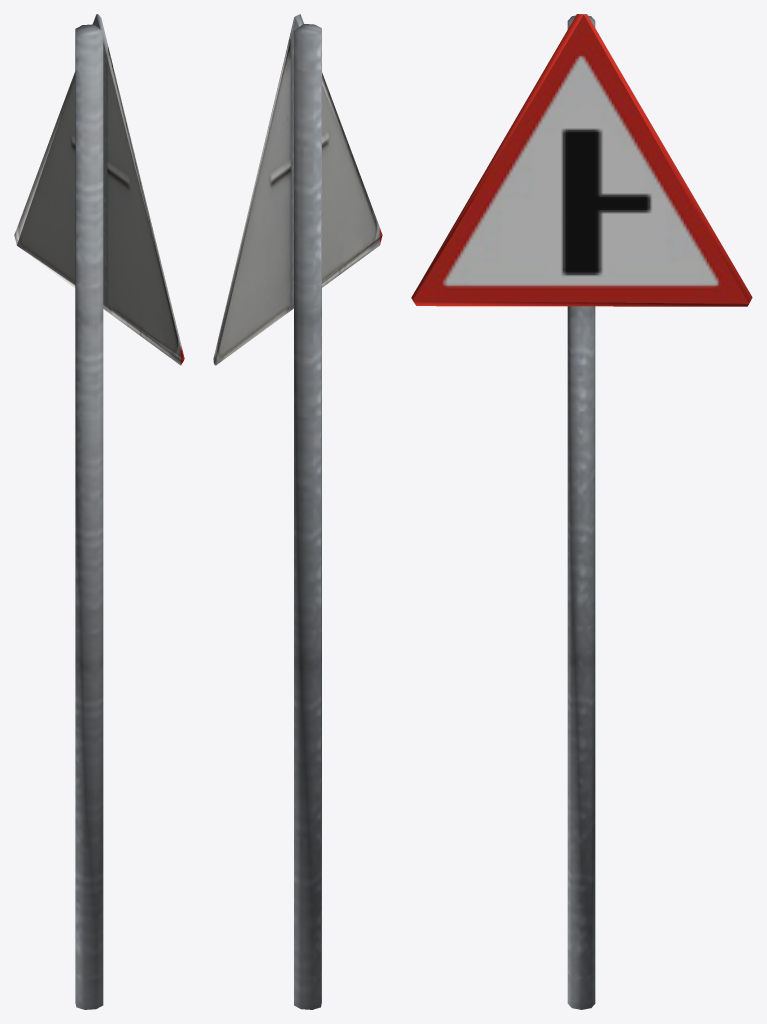
File: znakturn.FBX
The picture shows the model from 3 angles, left to right: view 1: azimuth 30°, elevation 25°; view 2: azimuth 150°, elevation 25°; view 3: azimuth 270°, elevation 25°; orthographic projection.
Parts seen in each view (by area): view 1: turnznak; view 2: turnznak; view 3: turnznak.
Boxes of the visible parts, x1,y1,x2,y2 form: turnznak: (14, 14, 184, 1009); turnznak: (213, 14, 382, 1009); turnznak: (411, 14, 752, 1009).
Bounding box in the file's own units: 0.031 × 1.13 × 0.3525.
1 material, 1 textured.
